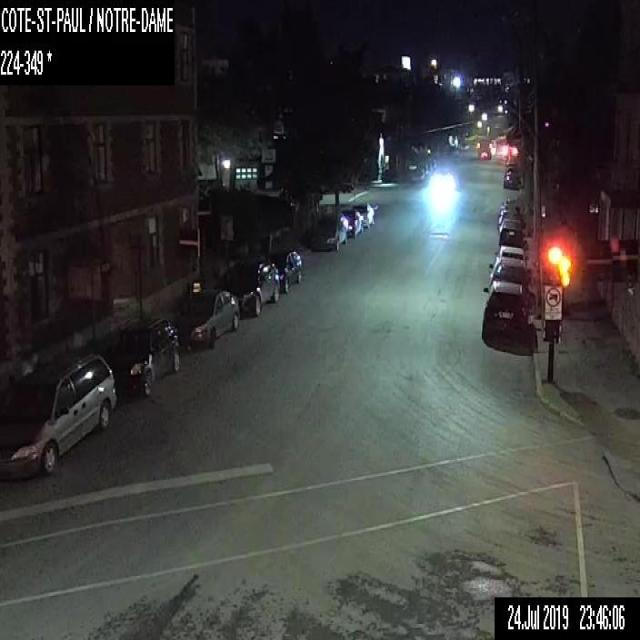pedestrian: (373, 201, 378, 224)
vehicle: (0, 350, 115, 481), (109, 318, 179, 396), (176, 289, 239, 347), (219, 258, 278, 314), (480, 280, 529, 346), (308, 212, 348, 252), (267, 250, 301, 292), (488, 255, 524, 288), (496, 218, 524, 245), (494, 244, 528, 264), (341, 208, 362, 236), (350, 202, 374, 226), (498, 208, 522, 224), (501, 169, 520, 189), (406, 162, 424, 181)
